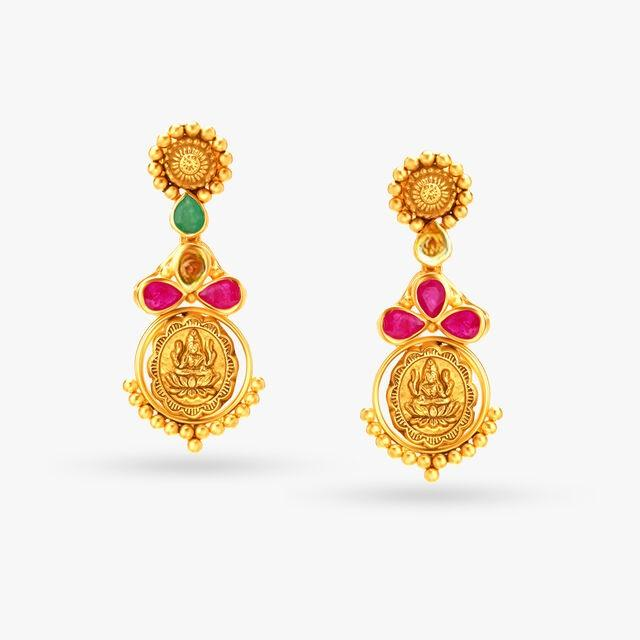missing gem: (417, 224, 448, 264), (177, 246, 206, 288)
